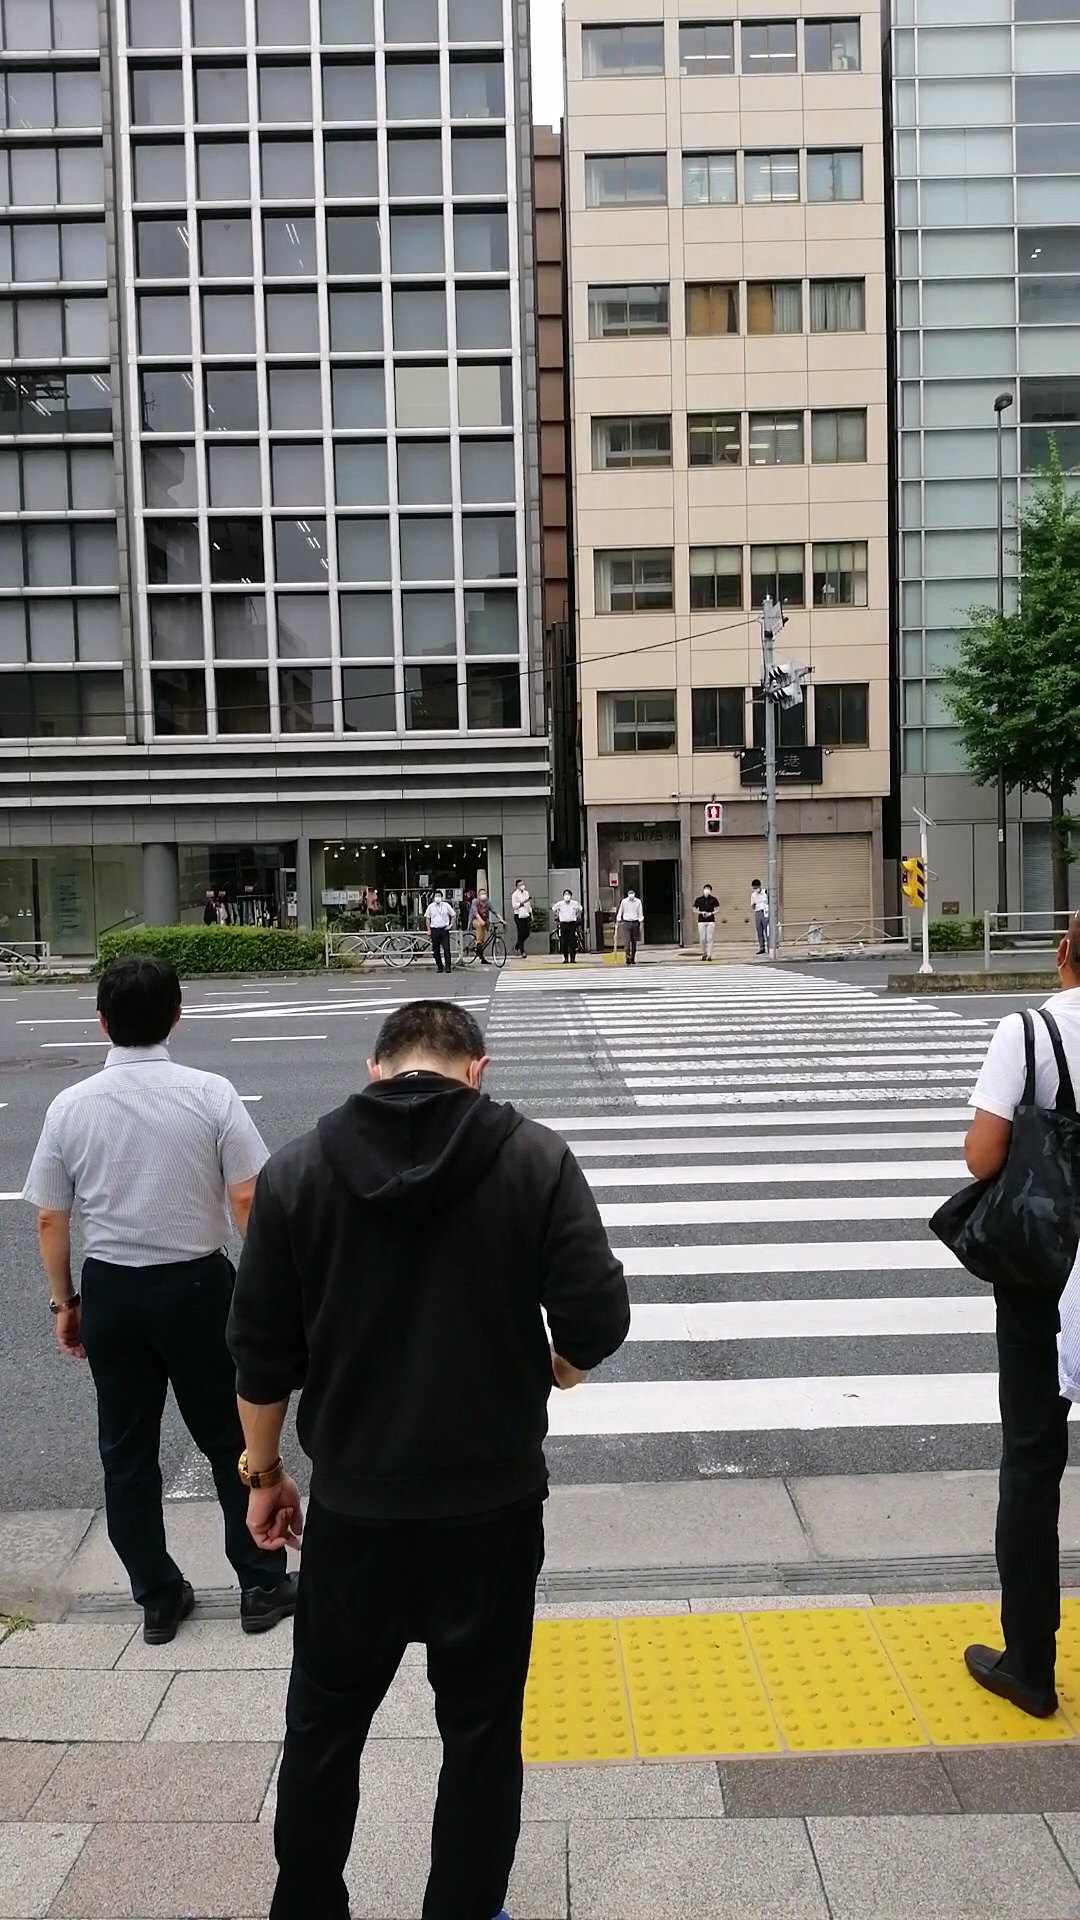red: (703, 803, 721, 835)
